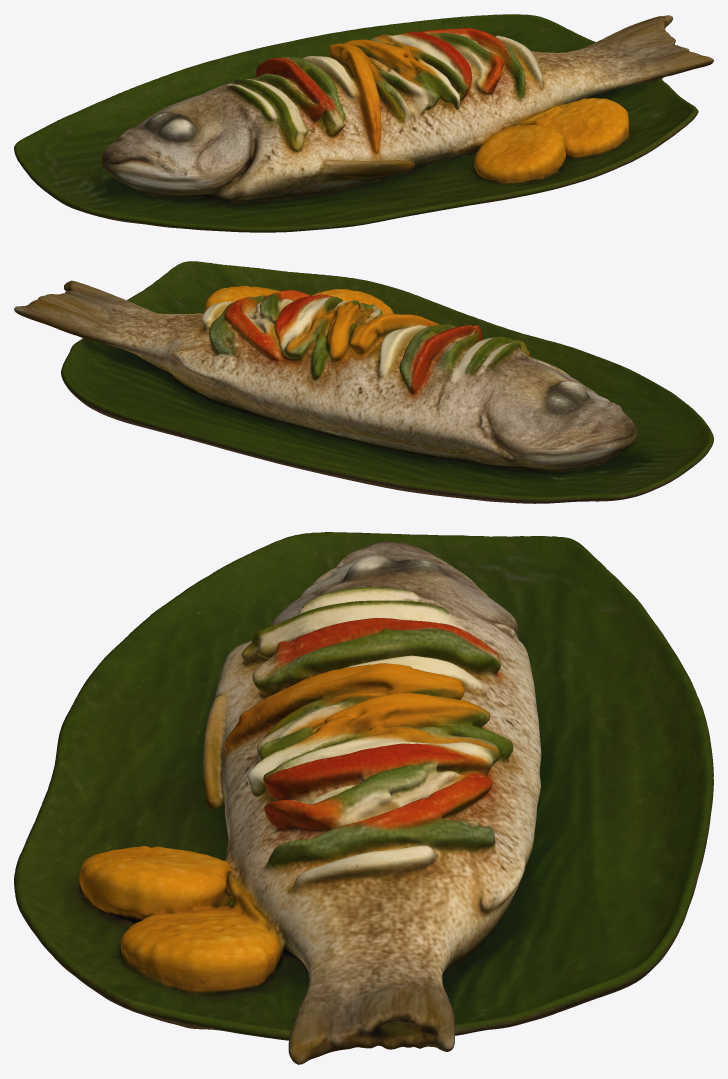
The model's file is pieza-04.glb.
The picture shows the model from 3 angles, top to bottom: view 1: azimuth 30°, elevation 25°; view 2: azimuth 150°, elevation 25°; view 3: azimuth 270°, elevation 25°; orthographic projection. The views are drawn at different scales.
Visible parts, largest first — view 1: world; view 2: world; view 3: world.
Boxes of the visible parts, left/top/right/bottom form: world: left=14, top=14, right=713, bottom=232; world: left=14, top=261, right=713, bottom=503; world: left=14, top=532, right=713, bottom=1064.
Size of the model in its own units: 1 by 0.1458 by 0.5608.
1 material, 1 textured.
